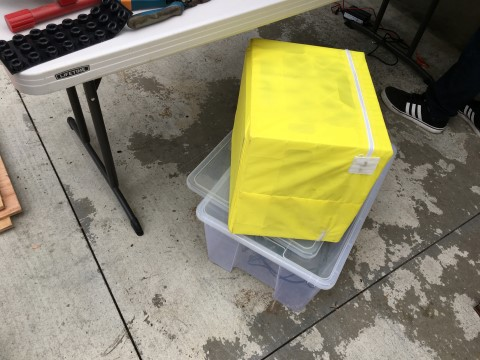cube: (227, 36, 394, 243)
